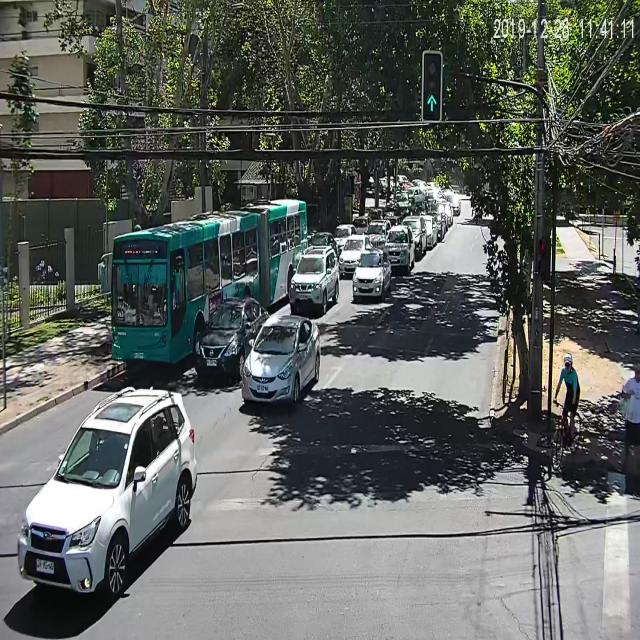AB: (101, 187, 316, 378)
